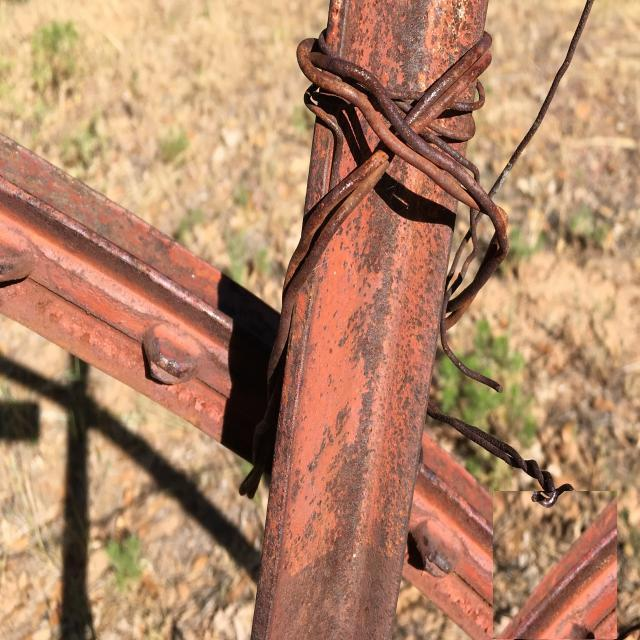Corrosion: (243, 0, 505, 639)
